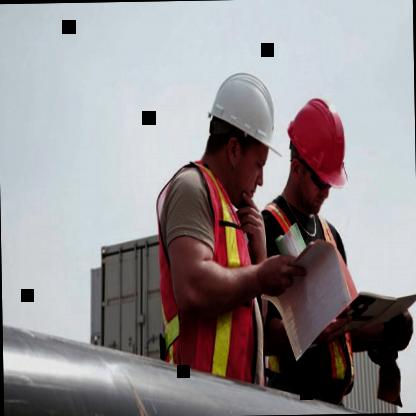helmet: (197, 53, 289, 207), (270, 89, 356, 222)
